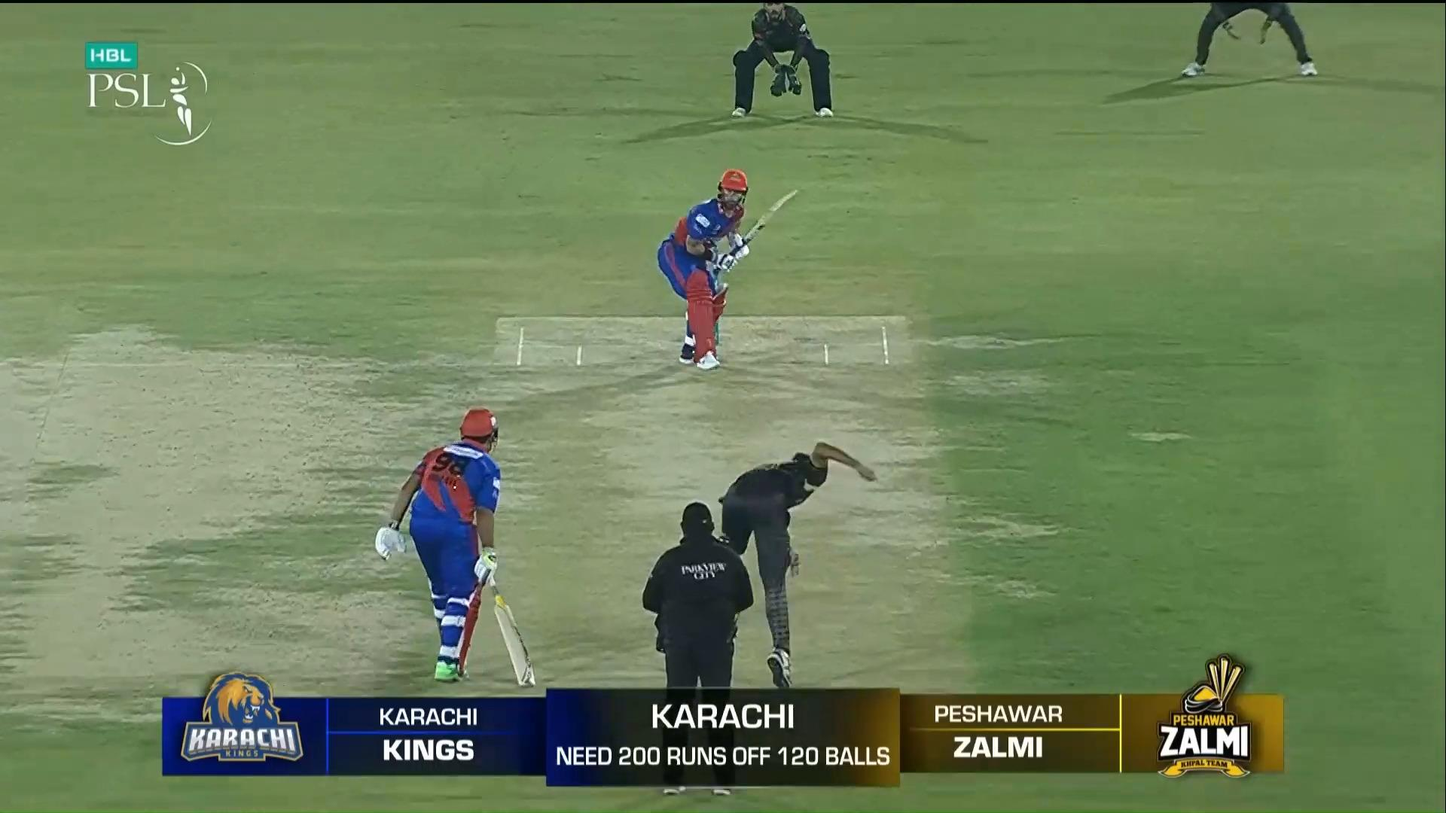batsman: (658, 168, 798, 371)
